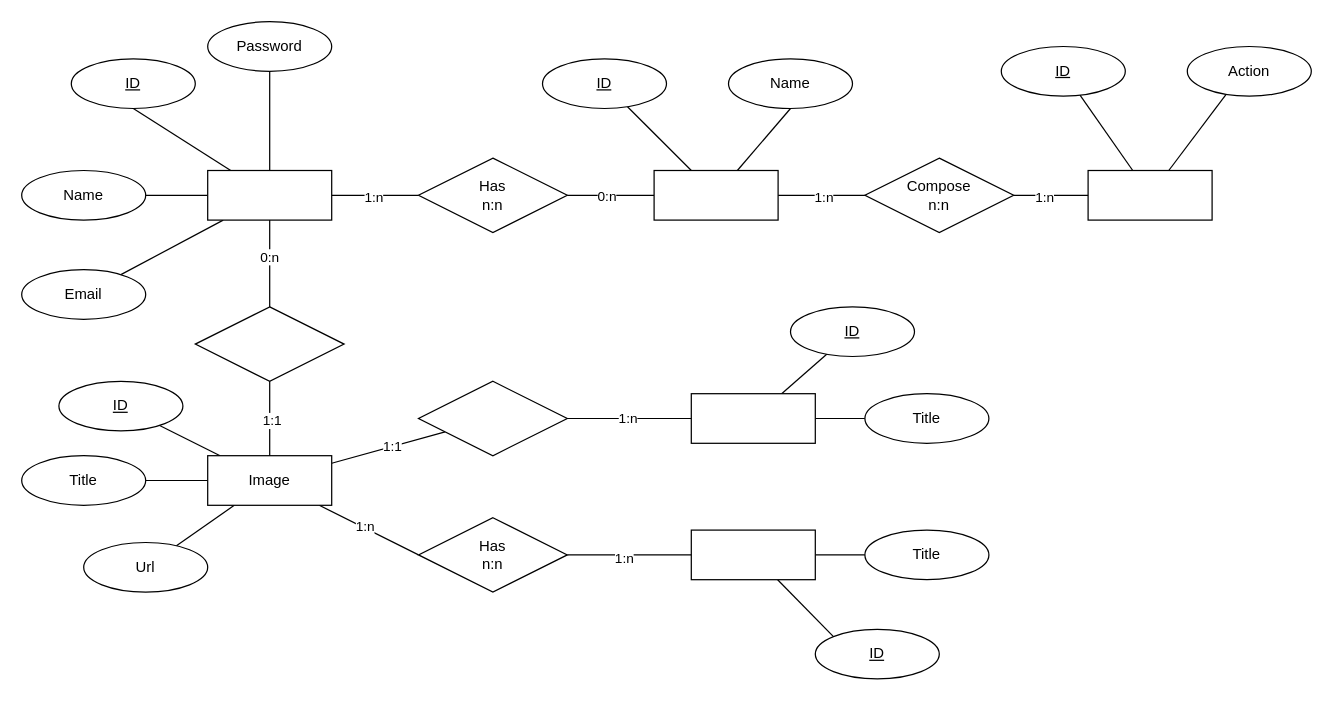
Image size: 1333x701. Some labels were removed from this diagram. Here are the shapes that lost their labels. From the top down, the box of each, then its label:
(206, 169, 332, 220): User
(653, 169, 778, 220): Role
(1087, 169, 1212, 220): Permission
(194, 306, 344, 381): Can Upload 1:n
(417, 380, 567, 456): Has 1:n
(690, 392, 815, 443): Category
(690, 529, 815, 580): Tag
